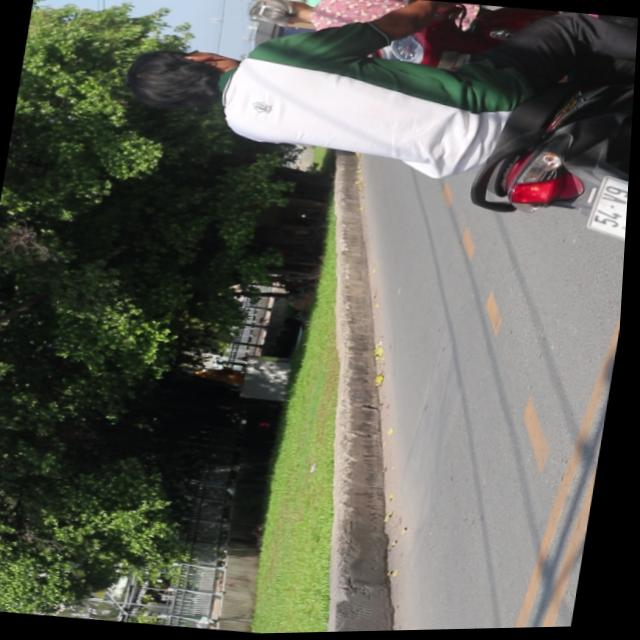licenseplate: (99, 0, 640, 254)
motorcyclist: (119, 42, 242, 119)
nohelmet: (586, 175, 631, 247)
